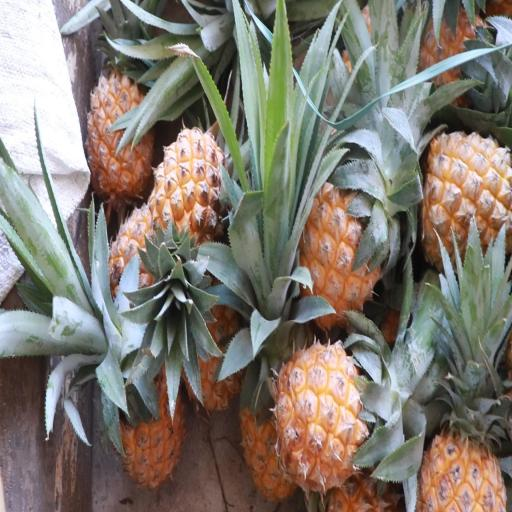Pineapple - v8 v1: (272, 331, 378, 501), (294, 171, 389, 338), (104, 308, 188, 494), (411, 359, 512, 512), (415, 130, 512, 282), (150, 123, 238, 260), (84, 63, 158, 205)
